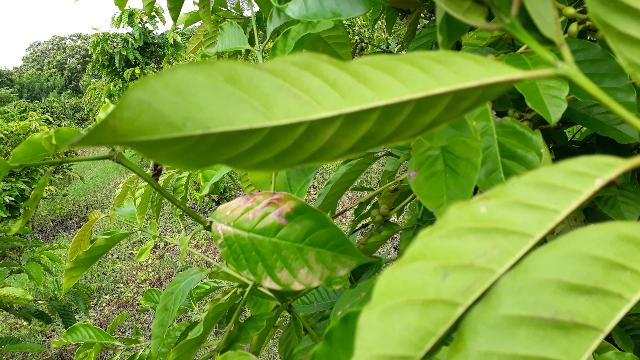healthy: (72, 52, 528, 174)
